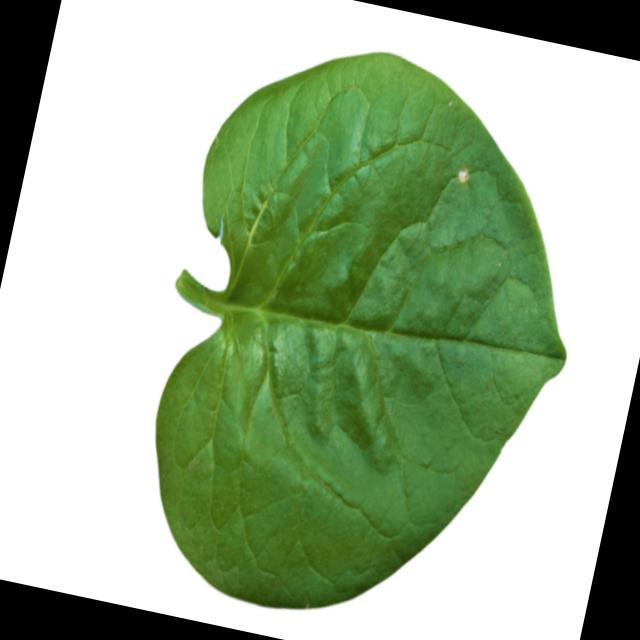Medicinal-Basale: (111, 16, 620, 640)
